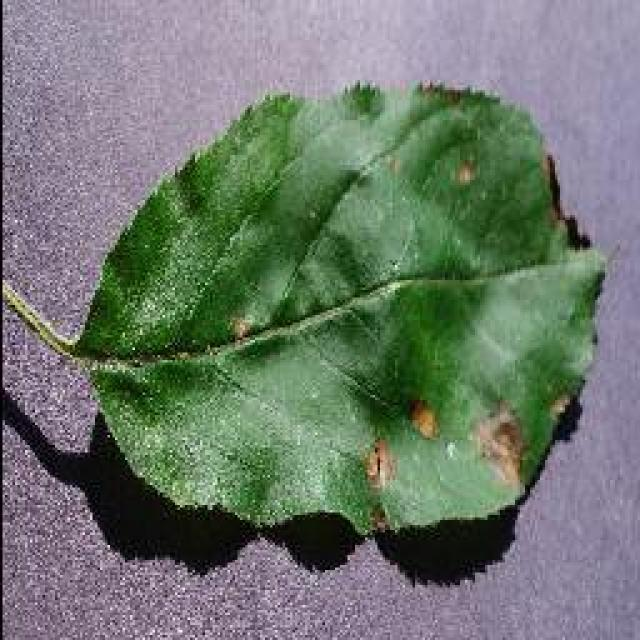Black_rot: (0, 78, 608, 540)
